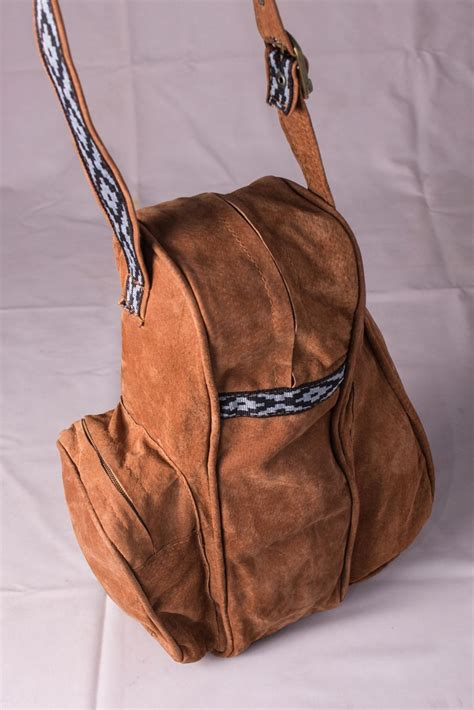cuero: (31, 1, 437, 665)
